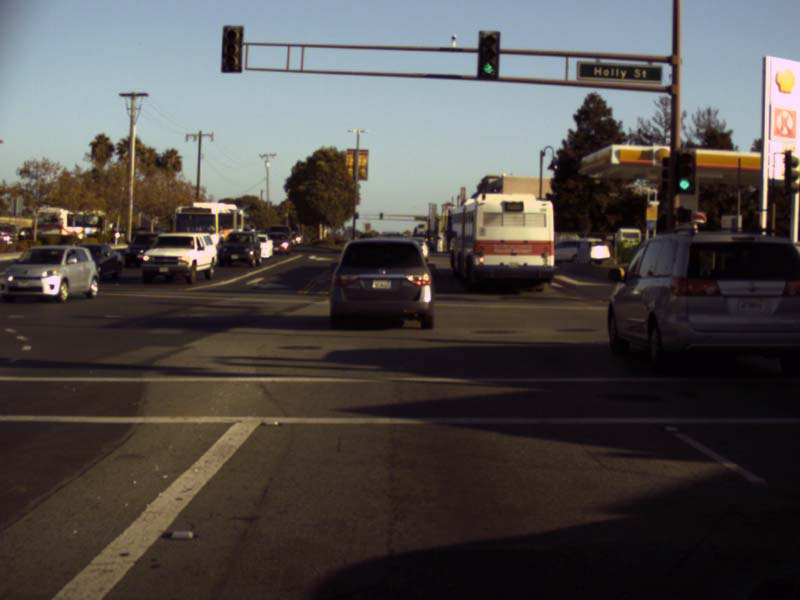Green: (672, 151, 696, 192), (478, 28, 497, 79)
